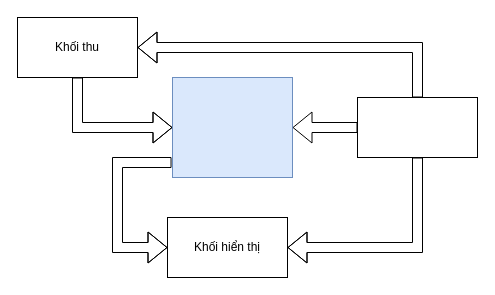
The diagram is 495 pixels wide and 295 high, and some of its shapes have lost their labels. Here are the shapes that lost their labels. From the top down, the box of each, then its label:
(172, 76, 292, 178): Khối xử lý
(356, 96, 478, 158): Khối nguồn
